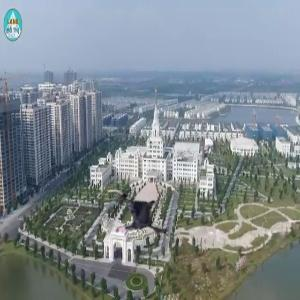drone: (101, 177, 178, 254)
